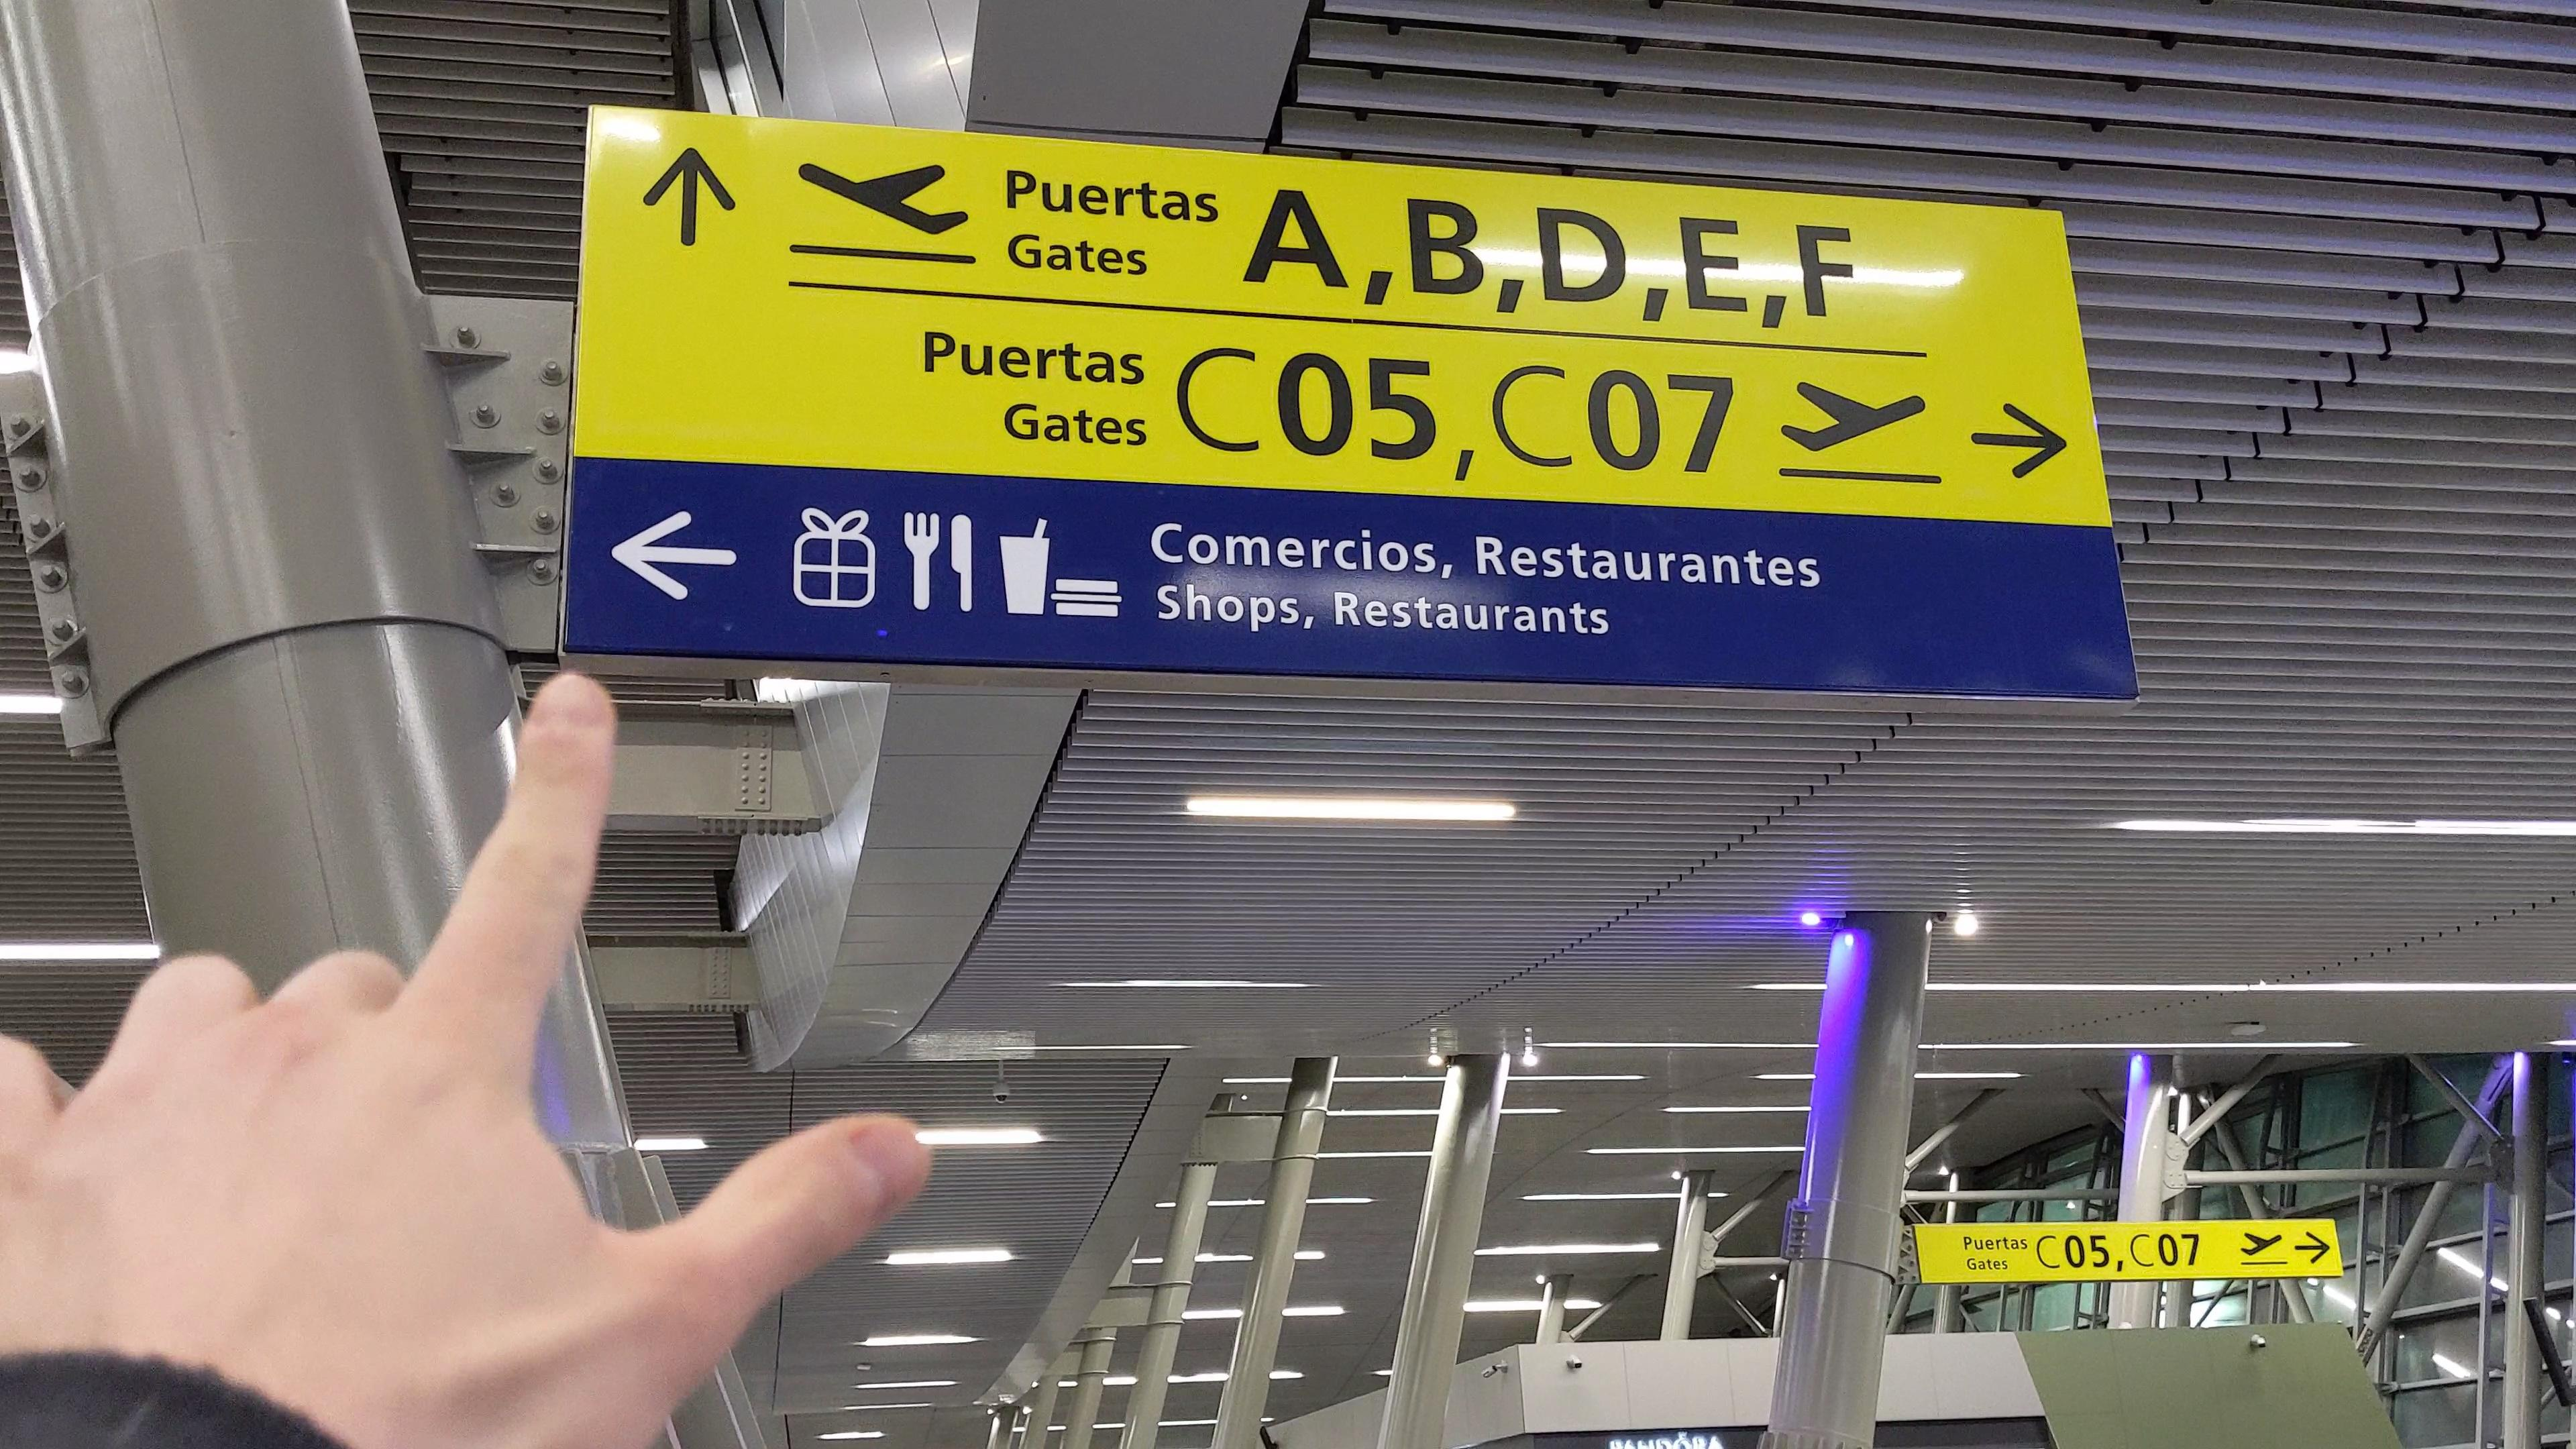airplane symbol: (796, 159, 975, 242), (1775, 377, 1932, 456), (2238, 1230, 2282, 1256)
restaurants: (899, 504, 984, 619)
thin left arrow: (605, 510, 741, 603)
thin right arrow: (1966, 398, 2074, 485), (2293, 1228, 2332, 1267)
thin up arrow: (640, 143, 745, 251)
